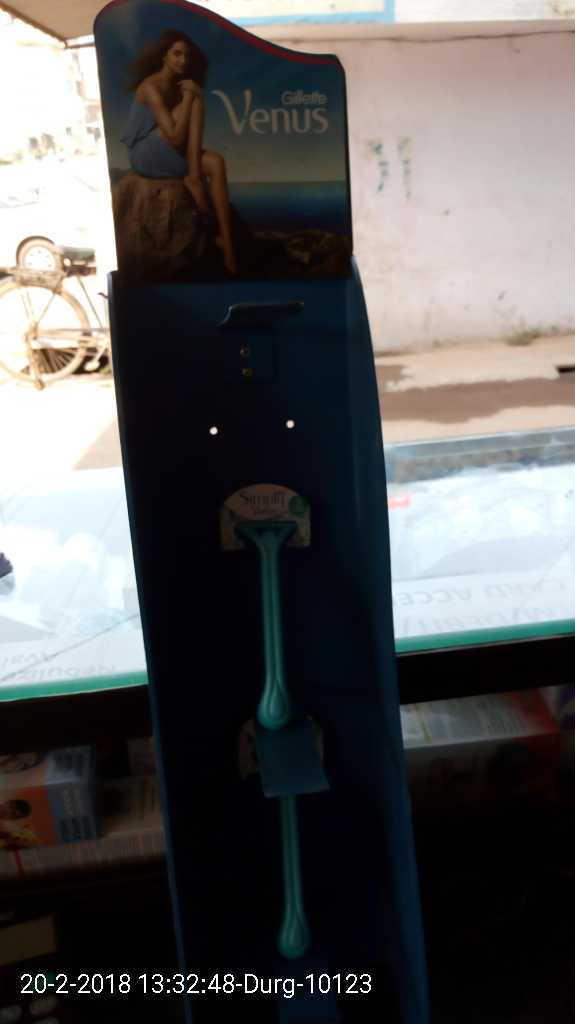reject: (153, 371, 244, 472)
